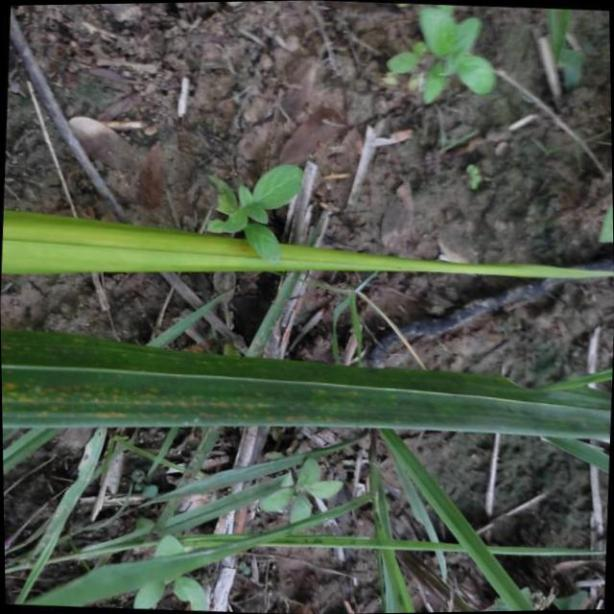nitrogen: (0, 337, 614, 436), (0, 205, 614, 278)
